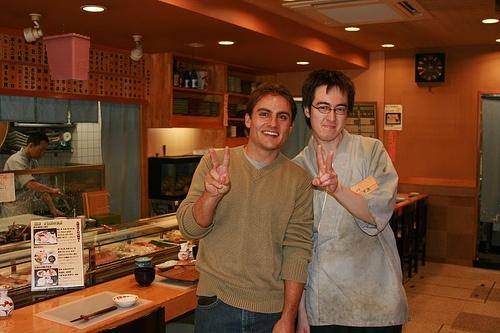tampered: (44, 20, 90, 80)
